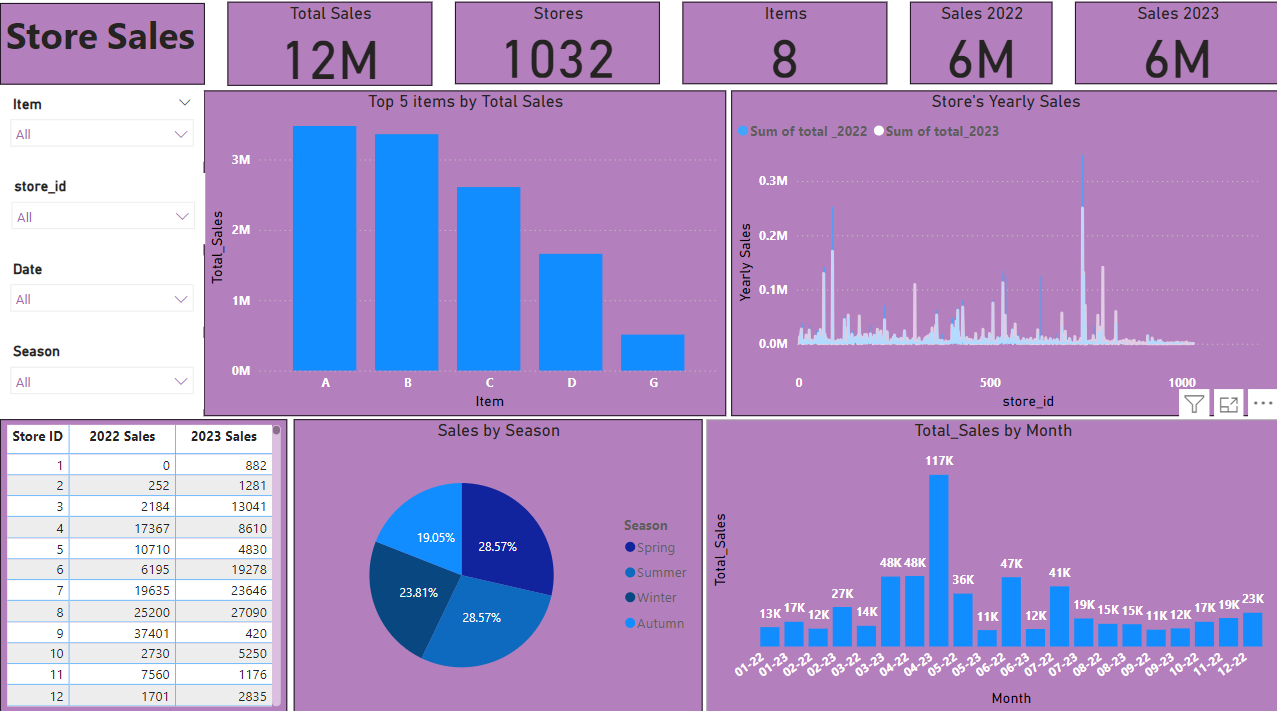

Layout of this report page (visuals, bound fields, positions):
{"tool":"powerbi","page":{"name":"Page 1","canvas":[1280,720],"ordinal":0},"visuals":[{"type":"columnChart","title":"Top 5 items by Total Sales","fields":{"Category":["store_sales_data.item"],"Y":["Sum(store_sales_data.total_sales)"]},"box":[204.2,97.8,522.1,325.3],"z":0},{"type":"lineStackedColumnComboChart","title":"Store''s Yearly Sales ","fields":{"Category":["store_sales_data.store_id"],"Y":["Sum(store_sales_data.total _2022)"],"Y2":["Sum(store_sales_data.total_2023)"]},"box":[731.3,97.8,547.8,325.3],"z":1000},{"type":"clusteredColumnChart","title":"Total_Sales by Month ","fields":{"Y":["Sum(store_sales_data.Sales)"],"Category":["store_sales_data.Date"]},"box":[706.8,426.8,572.3,293.5],"z":2000},{"type":"pieChart","title":"Sales by Season","fields":{"Y":["Sum(store_sales_data.total_sales)"],"Category":["store_sales_data.Season"]},"box":[293.5,426.5,408.4,293.5],"z":3000},{"type":"tableEx","fields":{"Values":["store_sales_data.store_id","Sum(store_sales_data.total _2022)","Sum(store_sales_data.total_2023)"]},"box":[0,426.8,287.4,293.5],"z":4000},{"type":"textbox","box":[0,10,204.5,81.8],"z":5000},{"type":"card","title":"Total Sales","fields":{"Values":["Sum(store_sales_data.total_sales)"]},"box":[227.2,8.2,204.5,83.6],"z":6000},{"type":"card","title":" Stores","fields":{"Values":["Count(store_sales_data.store_id)"]},"box":[454.5,8.8,205,82.5],"z":7000},{"type":"card","title":"Items","fields":{"Values":["Count(store_sales_data.item)"]},"box":[682.1,8.8,205,82.5],"z":8000},{"type":"card","title":"Sales 2023","fields":{"Values":["Sum(store_sales_data.total_2023)"]},"box":[1075,8.8,205,82.5],"z":9000},{"type":"card","title":"Sales 2022","fields":{"Values":["Sum(store_sales_data.total _2022)"]},"box":[909.8,8.8,142.5,82.5],"z":10000},{"type":"slicer","fields":{"Values":["store_sales_data.Season"]},"box":[0,345,203.8,71.2],"z":10001},{"type":"slicer","fields":{"Values":["store_sales_data.item"]},"box":[0,97.5,203.8,71.2],"z":10002},{"type":"slicer","fields":{"Values":["store_sales_data.Date"]},"box":[0,262.5,203.8,71.2],"z":10003},{"type":"slicer","fields":{"Values":["store_sales_data.store_id"]},"box":[1.2,180,203.8,71.2],"z":10004}]}

Visuals, with their boxes in screenshot pixels (x1, y1, x2, y2), scaled from the page's 1280x720 canvas onto the 1277x711 screenshot:
"Top 5 items by Total Sales" columnChart: left=204, top=97, right=725, bottom=418
"Store''s Yearly Sales " lineStackedColumnComboChart: left=730, top=97, right=1276, bottom=418
"Total_Sales by Month " clusteredColumnChart: left=705, top=421, right=1276, bottom=710
"Sales by Season" pieChart: left=293, top=421, right=700, bottom=710
tableEx - store_sales_data.store_id x Sum(store_sales_data.total _2022): left=0, top=421, right=287, bottom=710
textbox: left=0, top=10, right=204, bottom=91
"Total Sales" card: left=227, top=8, right=431, bottom=91
" Stores" card: left=453, top=9, right=658, bottom=90
"Items" card: left=681, top=9, right=885, bottom=90
"Sales 2023" card: left=1072, top=9, right=1276, bottom=90
"Sales 2022" card: left=908, top=9, right=1050, bottom=90
slicer - store_sales_data.Season: left=0, top=341, right=203, bottom=411
slicer - store_sales_data.item: left=0, top=96, right=203, bottom=167
slicer - store_sales_data.Date: left=0, top=259, right=203, bottom=330
slicer - store_sales_data.store_id: left=1, top=178, right=205, bottom=248
